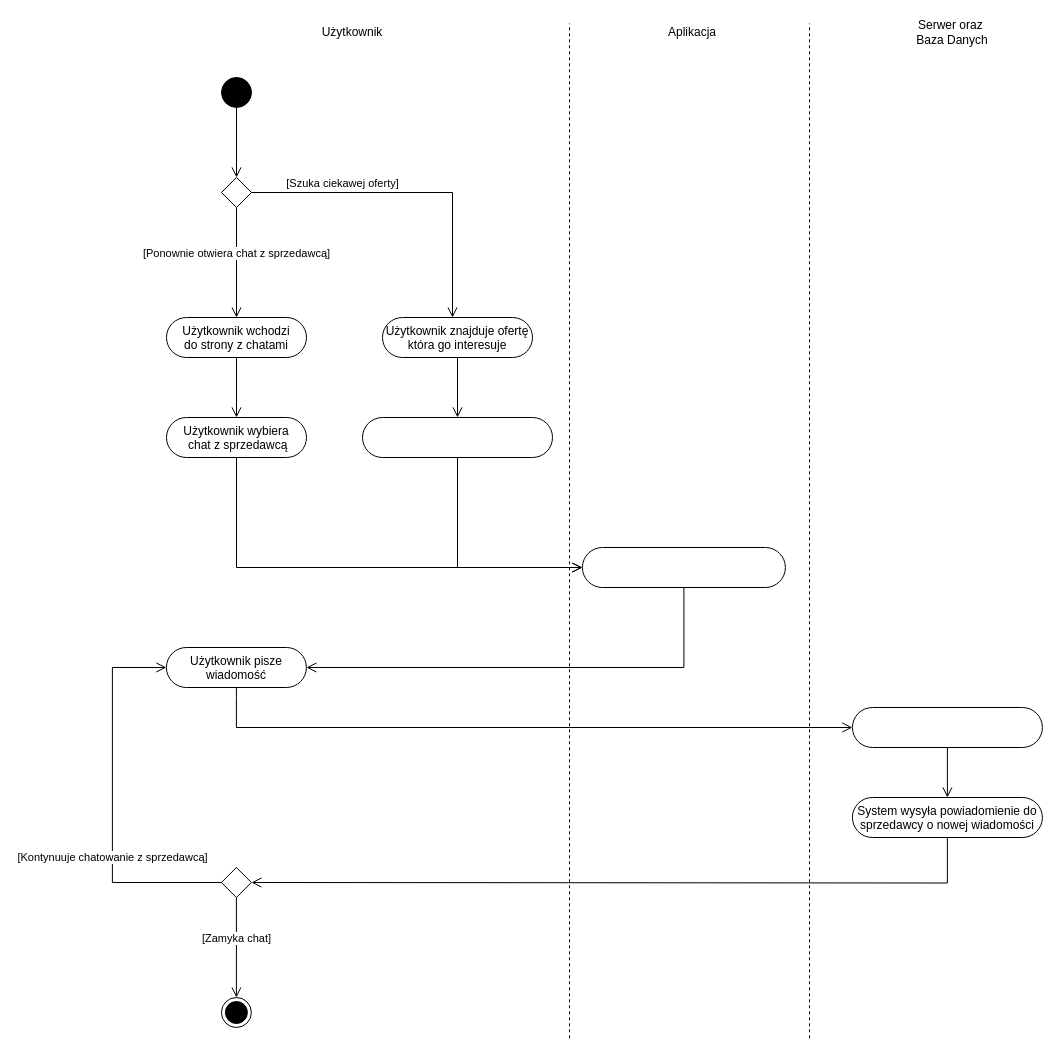
Image size: 1060x1057. Some labels were removed from this diagram. Here are the shapes that lost their labels. From the top down, the box of each, then its label:
(362, 416, 552, 458): Użytkownik wybiera opcję otworzenia chatu z sprzedawcą
(581, 546, 785, 588): Aplikacja pobiera dane chatu Użytkownika z Sprzedawcą
(851, 706, 1042, 748): System zapisuje wiadomość w Bazie Danych
